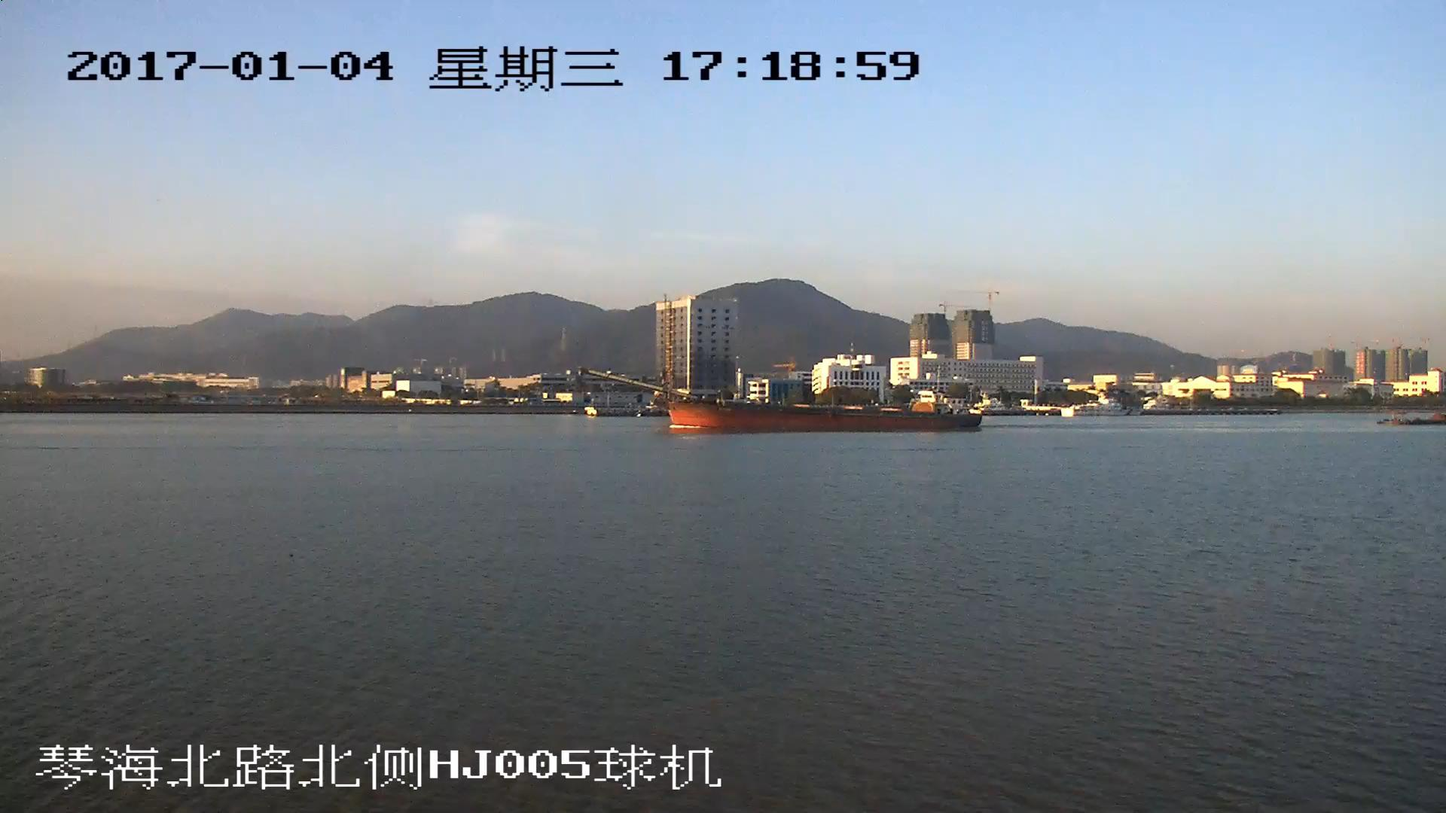bulk cargo carrier: (580, 370, 985, 431)
